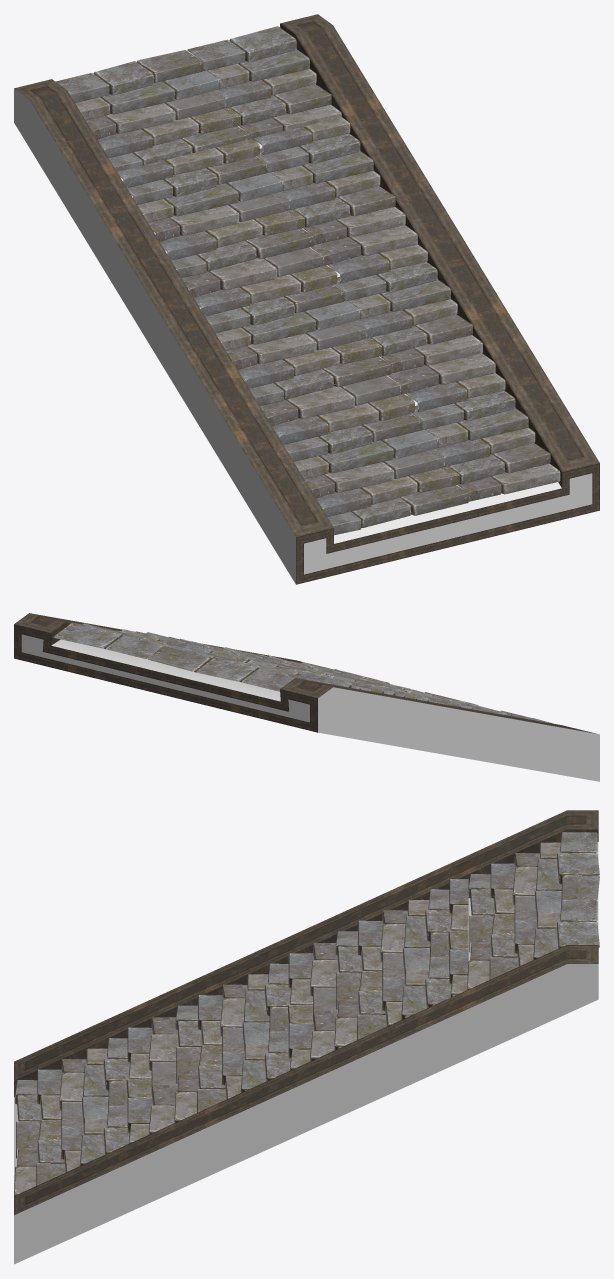
3 views of the same model, one above another, from view 1: azimuth 30°, elevation 25°; view 2: azimuth 150°, elevation 25°; view 3: azimuth 270°, elevation 25° (orthographic). The views are drawn at different scales.
Visible parts, largest first — view 1: SM_Dowdun_Int_Steps_01_LOD0; view 2: SM_Dowdun_Int_Steps_01_LOD0; view 3: SM_Dowdun_Int_Steps_01_LOD0.
Boxes of the visible parts, <box> form: SM_Dowdun_Int_Steps_01_LOD0: <box>14,14,599,584</box>; SM_Dowdun_Int_Steps_01_LOD0: <box>14,613,599,781</box>; SM_Dowdun_Int_Steps_01_LOD0: <box>14,810,599,1264</box>.
Size of the model in its own units: 8 by 7.29 by 12.89.
Materials: 3 (2 with a texture image).
